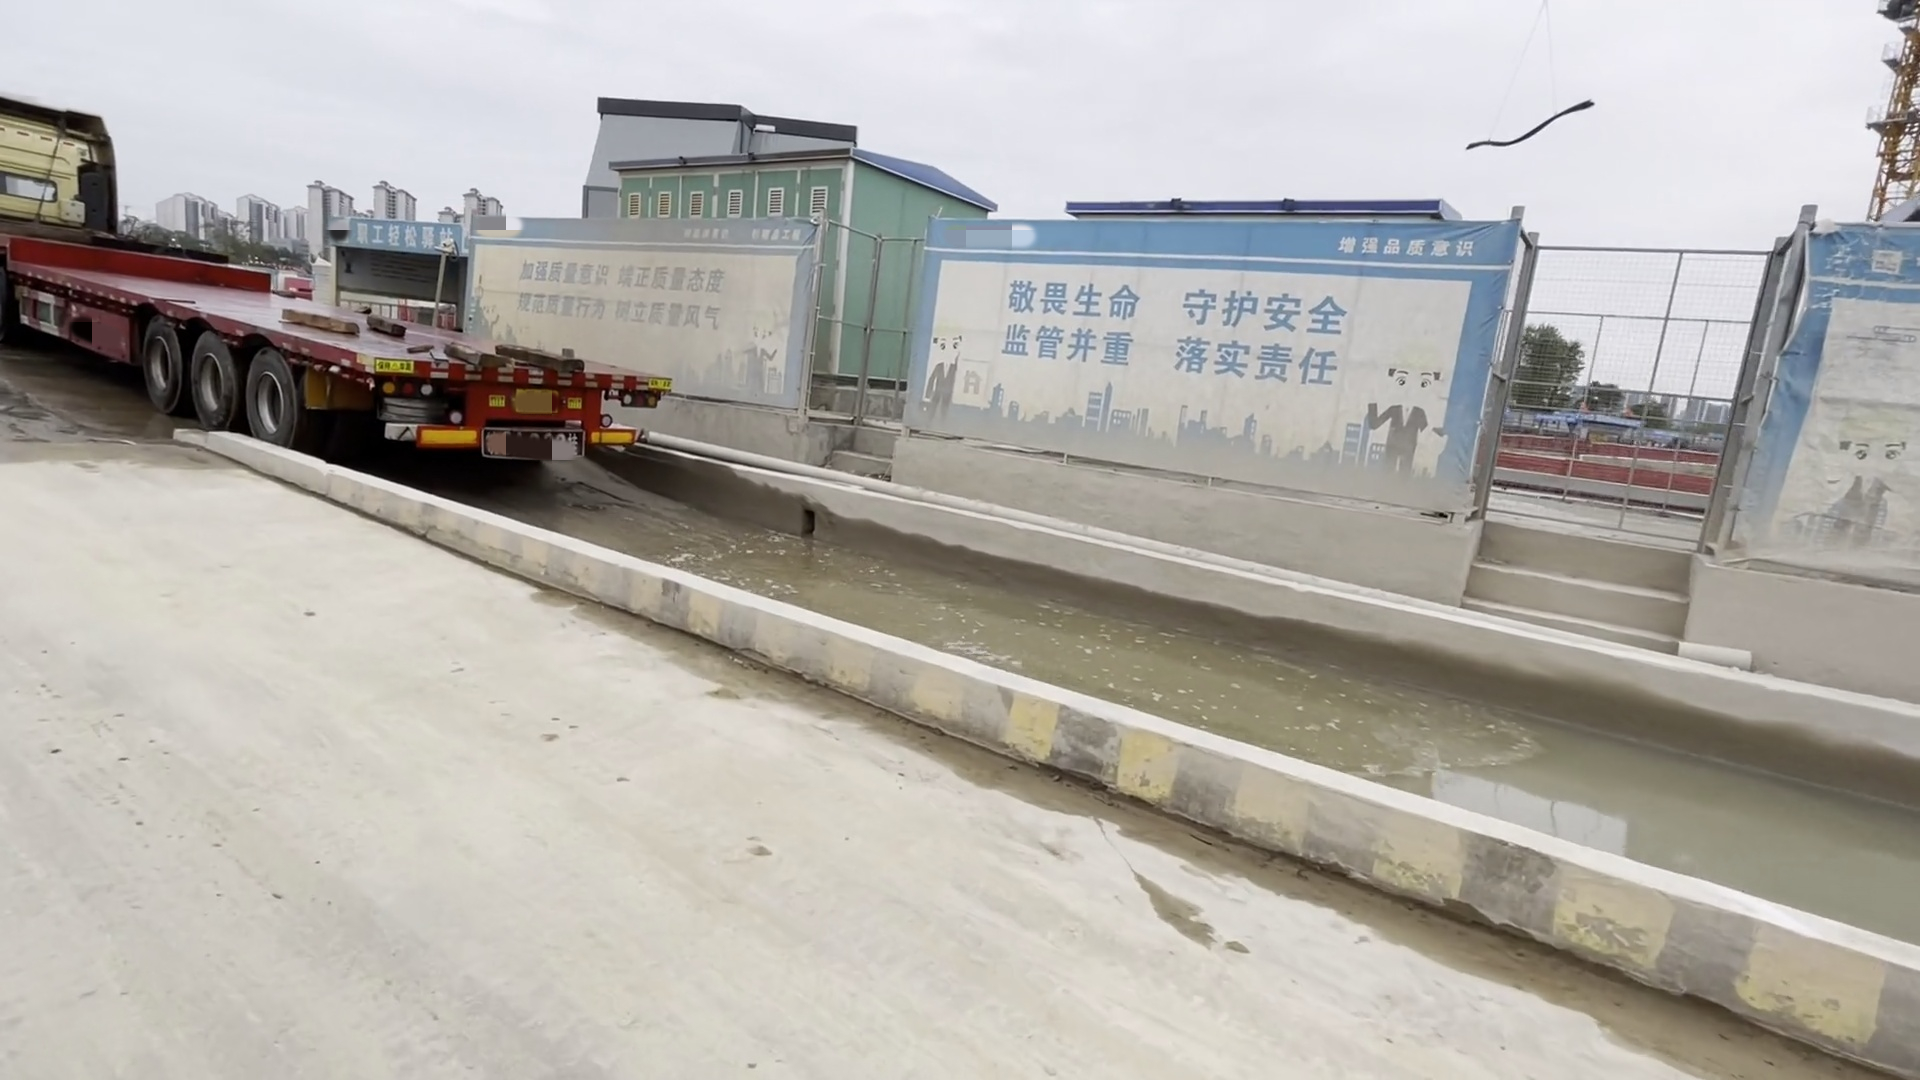slogan: (997, 274, 1360, 397), (506, 248, 746, 345), (1328, 229, 1495, 272), (675, 224, 799, 252)
